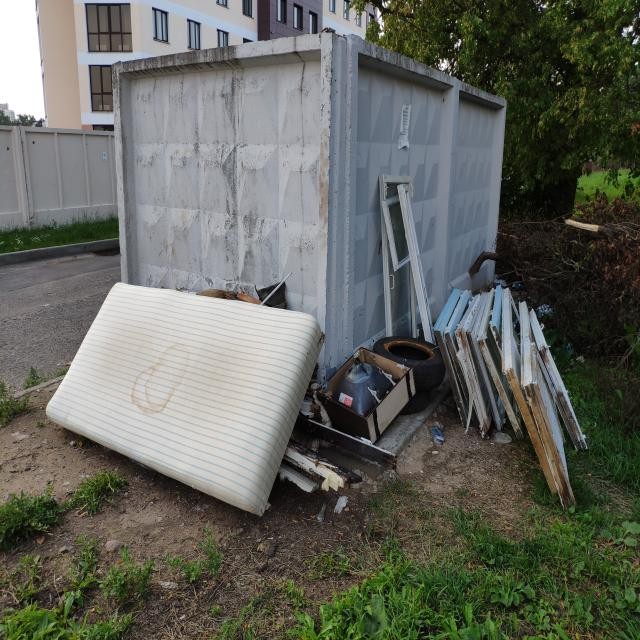entulho: (46, 290, 326, 524), (435, 292, 576, 458), (364, 336, 474, 461), (321, 342, 415, 438), (386, 176, 434, 350)
